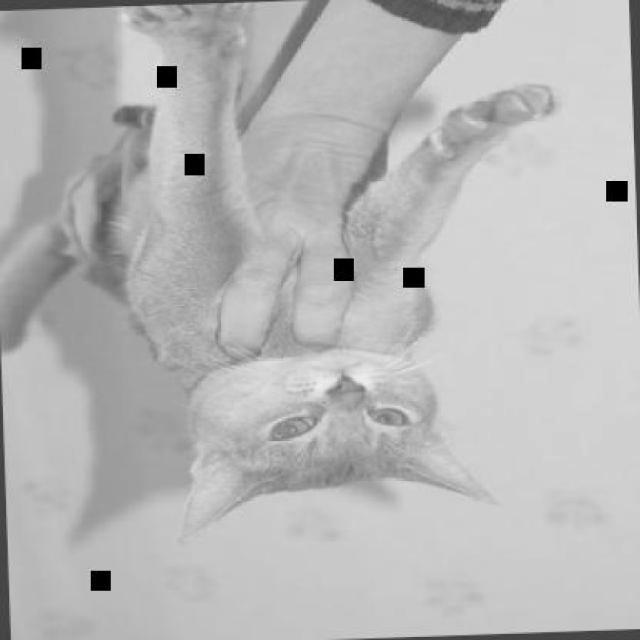Cat: (0, 0, 577, 554)
